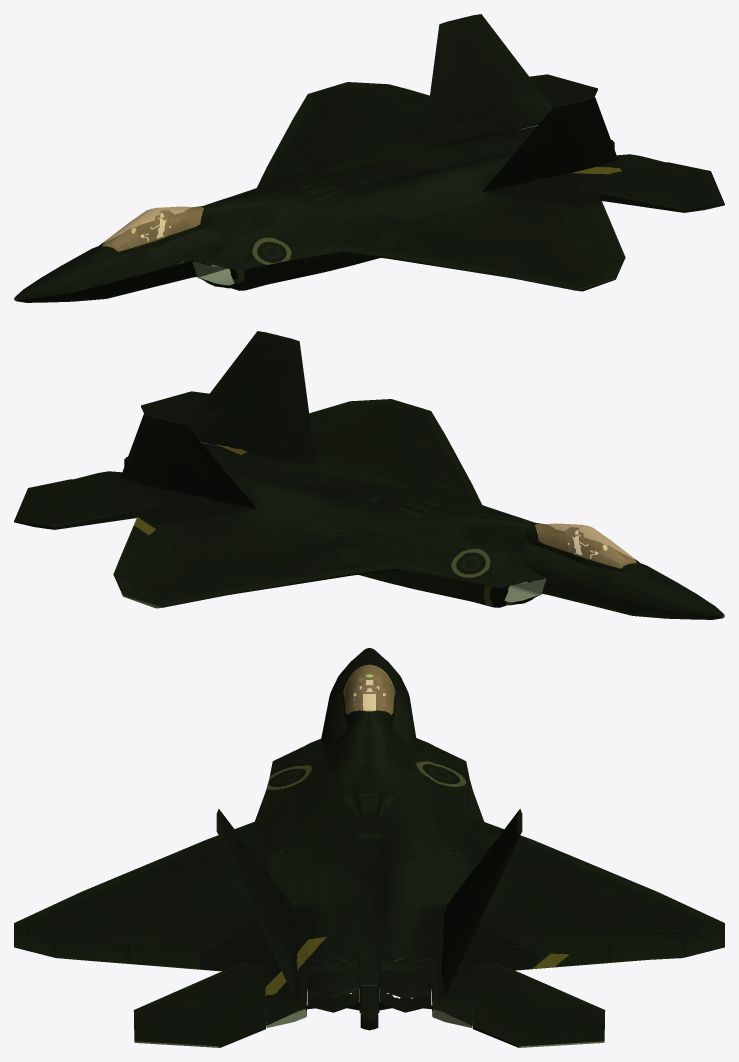
Rendered from f22_oman.glb.
3 views of the same model, one above another, from view 1: azimuth 30°, elevation 25°; view 2: azimuth 150°, elevation 25°; view 3: azimuth 270°, elevation 25° (orthographic). The views are drawn at different scales.
Parts seen in each view (by area): view 1: f22_2; view 2: f22_2; view 3: f22_2.
Part boxes in pixels (left/top/right/bottom): f22_2: left=14, top=14, right=724, bottom=302; f22_2: left=14, top=331, right=724, bottom=619; f22_2: left=14, top=648, right=724, bottom=1047.
Bounding box in the file's own units: 12.11 × 2.59 × 8.79.
Materials: 18 (8 with a texture image).
